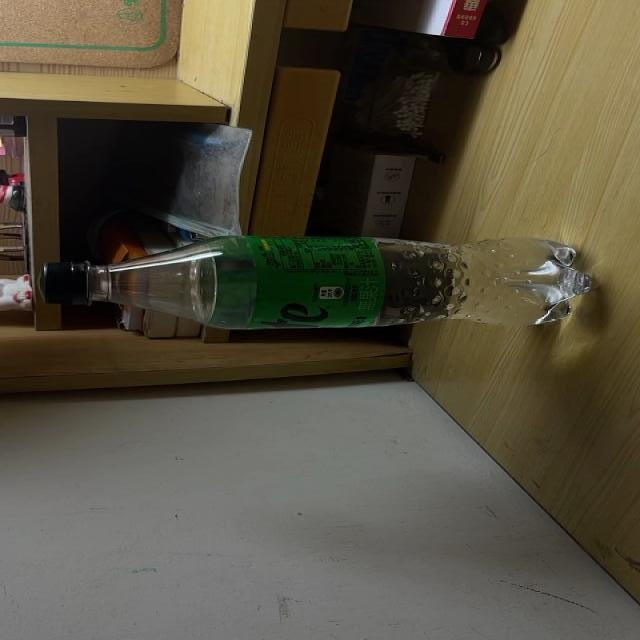Sprite: (37, 239, 585, 331)
